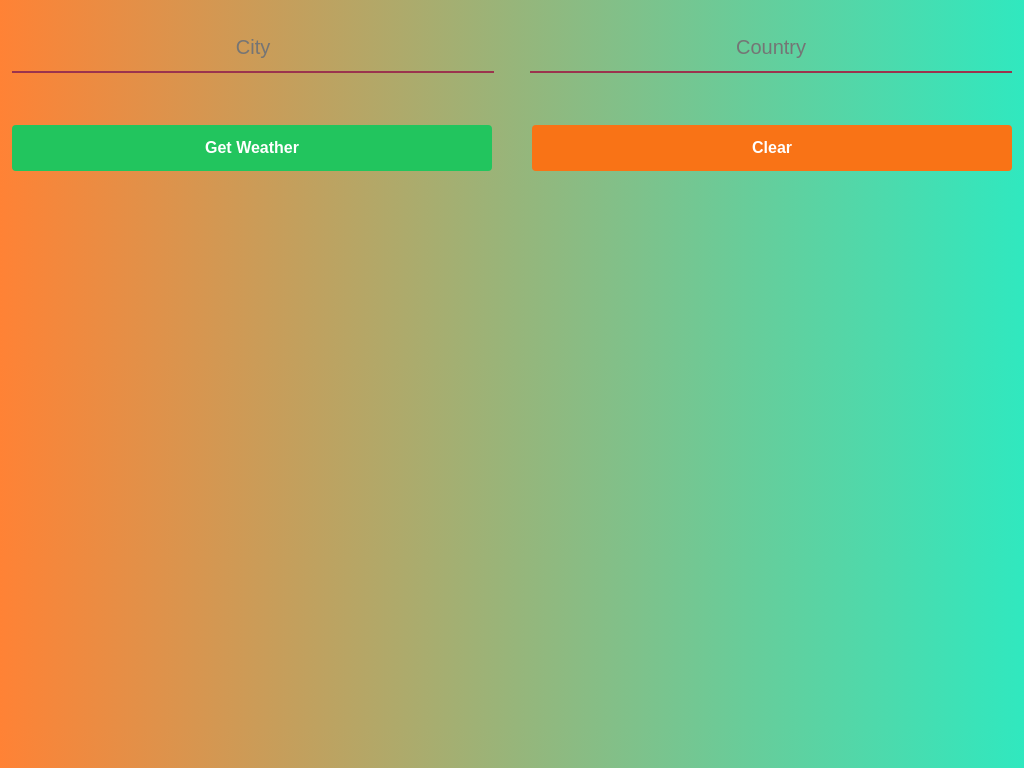
Test: WeatherForm component › resets form fields when the clear button is clicked
Type "London" into the field labelled "City" at (253, 48), box [12,24,494,73]
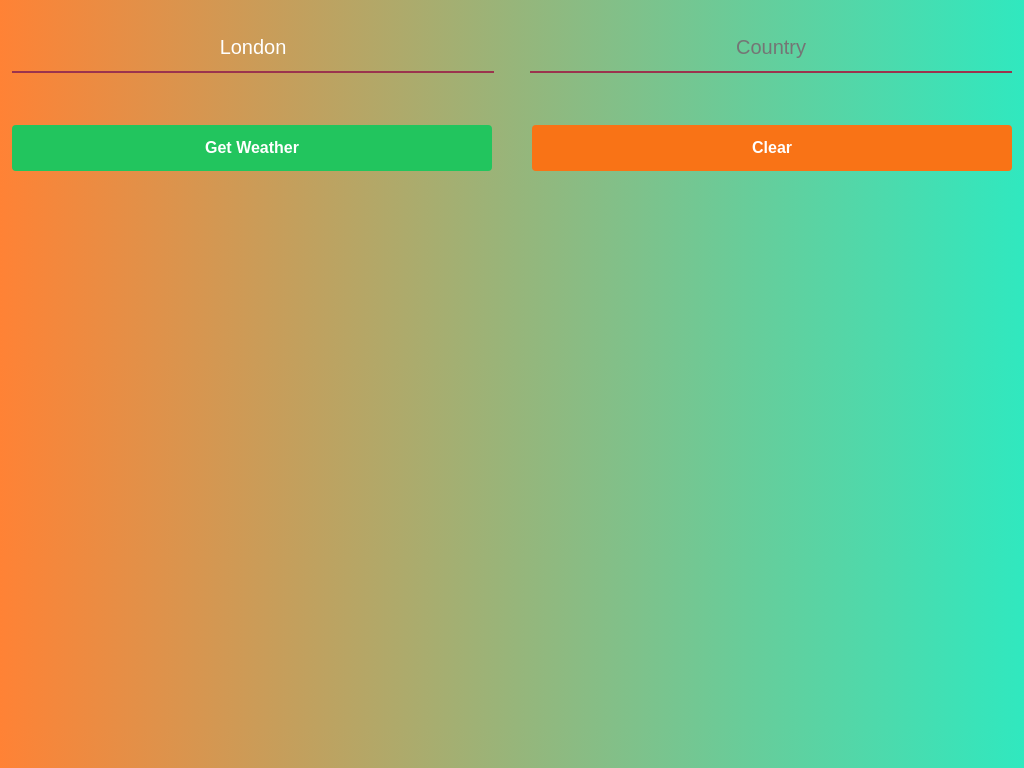
Type "UK" into the field labelled "Country" at (771, 48), box [530,24,1012,73]
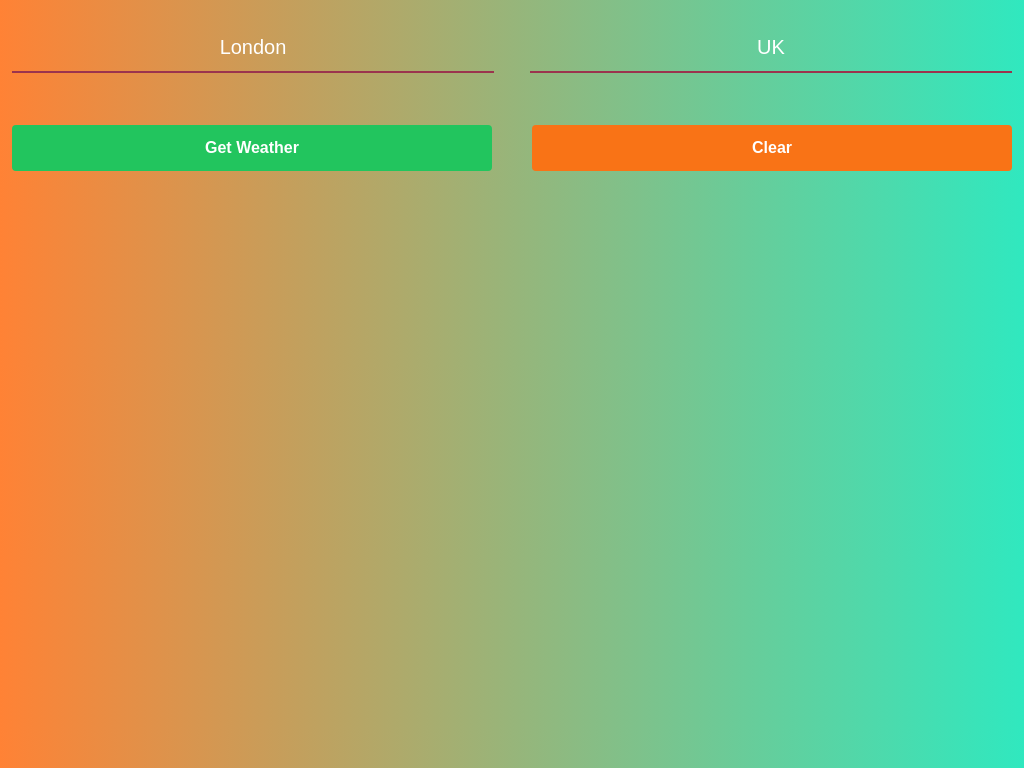
Click the button "Clear" at (772, 148), box [532,125,1012,171]
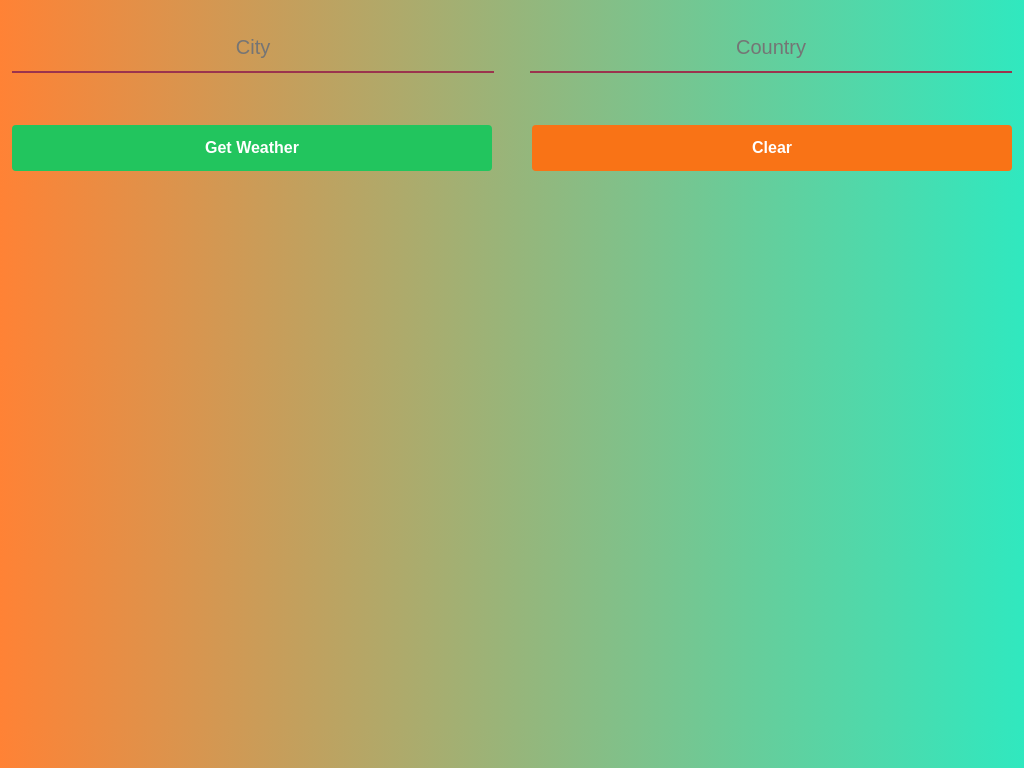
Expected: the field labelled "City" is empty, [12,24,494,73]
Expected: the field labelled "Country" is empty, [530,24,1012,73]
